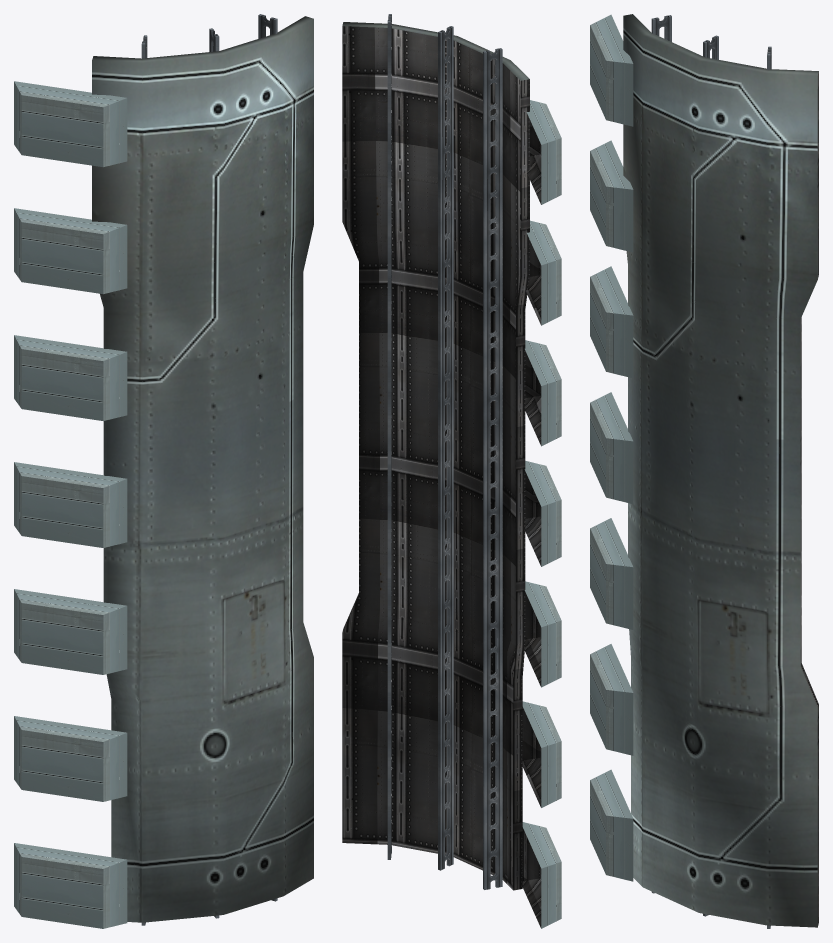
File: Panel_ConainerpieceWhinges.fbx
The picture shows the model from 3 angles, left to right: view 1: azimuth 30°, elevation 25°; view 2: azimuth 150°, elevation 25°; view 3: azimuth 330°, elevation 25°; orthographic projection. The views are drawn at different scales.
Parts seen in each view (by area): view 1: Panel_Conatiner_Piece_w_hinges; view 2: Panel_Conatiner_Piece_w_hinges; view 3: Panel_Conatiner_Piece_w_hinges.
Boxes of the visible parts, x1,y1,x2,y2 form: Panel_Conatiner_Piece_w_hinges: (14,14,313,928); Panel_Conatiner_Piece_w_hinges: (342,14,561,928); Panel_Conatiner_Piece_w_hinges: (590,14,818,928).
Bounding box in the file's own units: 291 × 941 × 117.
